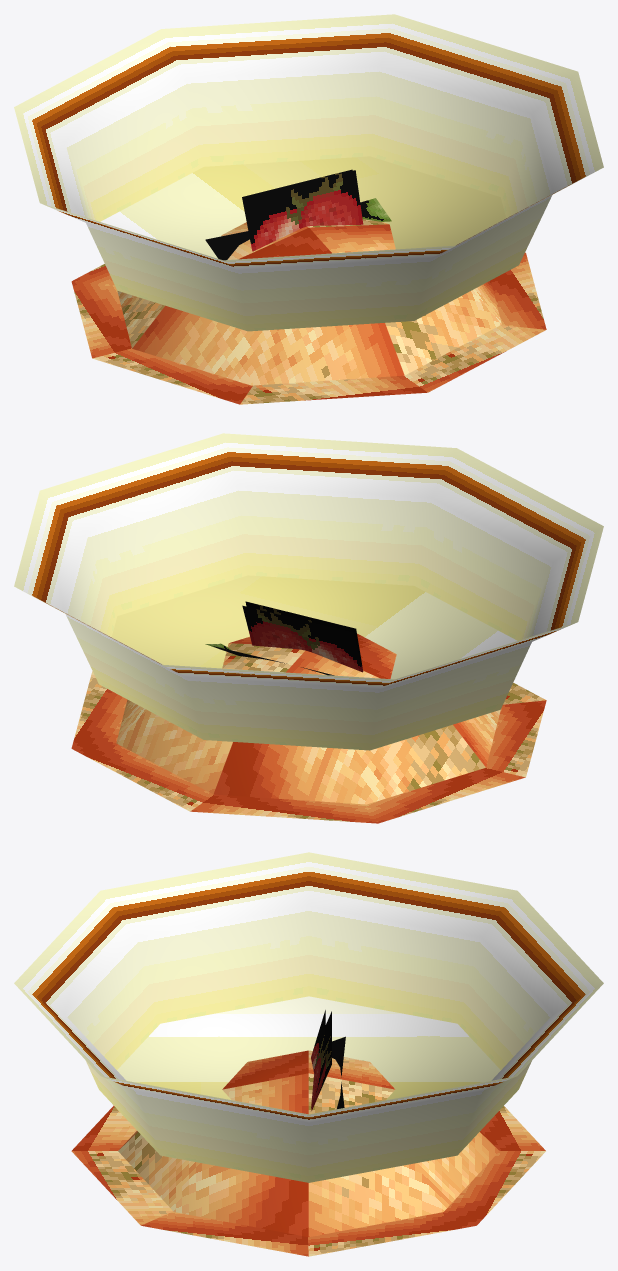
3 views of the same model, one above another, from view 1: azimuth 30°, elevation 25°; view 2: azimuth 150°, elevation 25°; view 3: azimuth 270°, elevation 25° (orthographic).
Parts seen in each view (by area): view 1: 5578u_spps01_ss; view 2: 5578u_spps01_ss; view 3: 5578u_spps01_ss.
Boxes of the visible parts, x1,y1,x2,y2 form: 5578u_spps01_ss: (14, 14, 603, 404); 5578u_spps01_ss: (14, 433, 603, 823); 5578u_spps01_ss: (14, 852, 603, 1256).
Bounding box in the file's own units: 0.8237 × 0.2644 × 0.7837.
5 materials, 5 textured.
